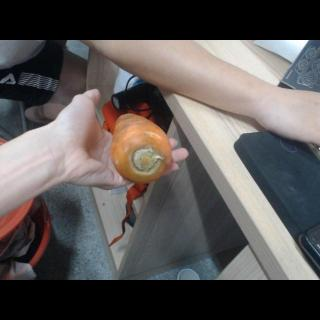carrot: (110, 113, 172, 185)
